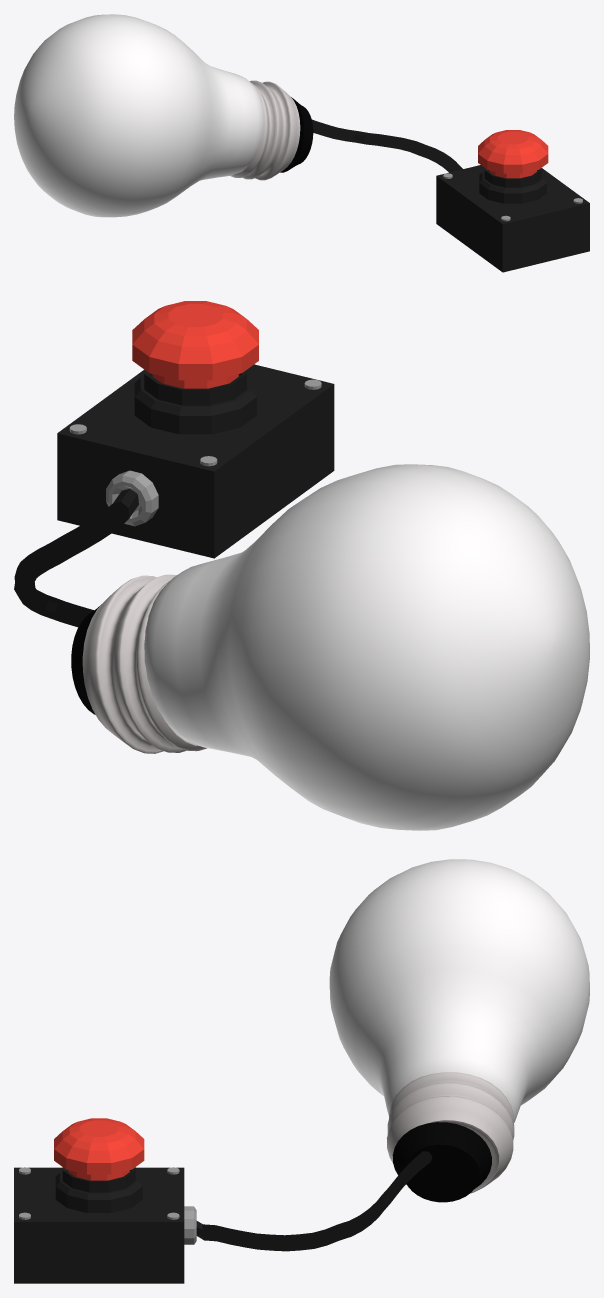
File: lightbulb.glb
3 views of the same model, one above another, from view 1: azimuth 30°, elevation 25°; view 2: azimuth 150°, elevation 25°; view 3: azimuth 270°, elevation 25° (orthographic). The views are drawn at different scales.
Parts seen in each view (by area): view 1: r0000.38478, Node; view 2: r0000.38478, Node; view 3: r0000.38478, Node.
Boxes of the visible parts, box(x1,y1,x2,y2) form: r0000.38478: box(14, 14, 313, 217); Node: box(311, 119, 589, 272); r0000.38478: box(71, 464, 589, 830); Node: box(14, 301, 334, 627); r0000.38478: box(329, 859, 589, 1202); Node: box(14, 1118, 432, 1283).
Bounding box in the file's own units: 2.36 × 1.07 × 2.37.
